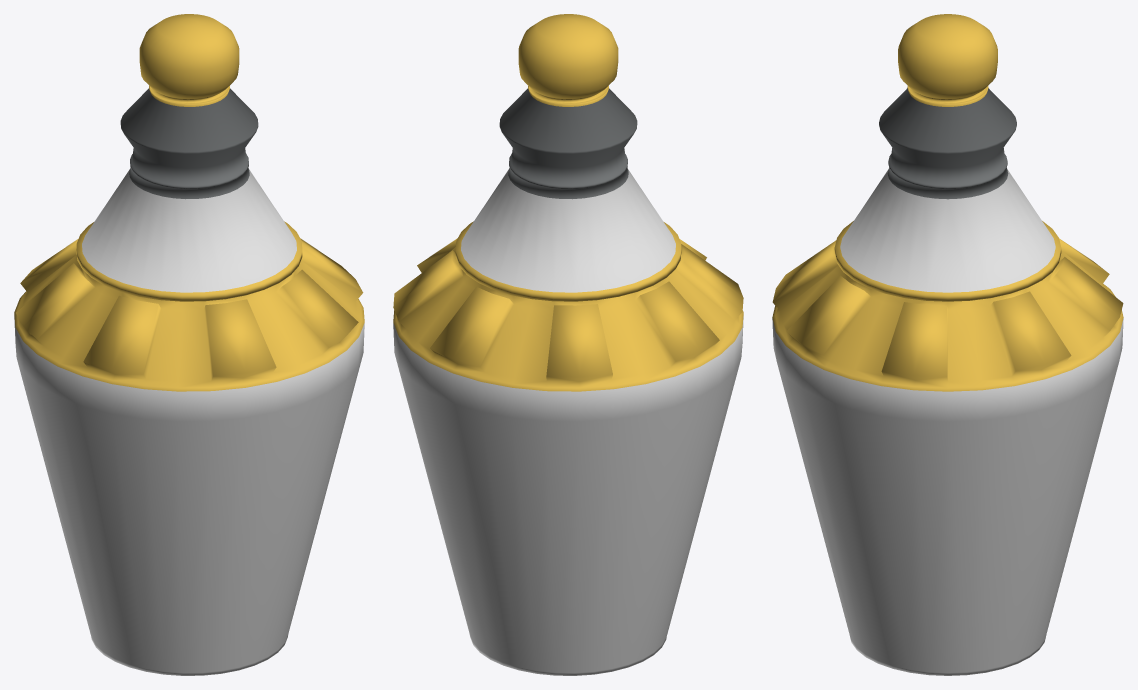
File: potion 3.fbx
3 views of the same model, side by side, from view 1: azimuth 30°, elevation 25°; view 2: azimuth 150°, elevation 25°; view 3: azimuth 270°, elevation 25° (orthographic).
Visible parts, largest first — view 1: Potion 3.008; view 2: Potion 3.008; view 3: Potion 3.008.
Boxes of the visible parts, x1=… form: Potion 3.008: x1=14, y1=14, x2=364, y2=675; Potion 3.008: x1=393, y1=14, x2=743, y2=675; Potion 3.008: x1=772, y1=14, x2=1123, y2=675.
Size of the model in its own units: 6.94 by 6.94 by 13.33.
